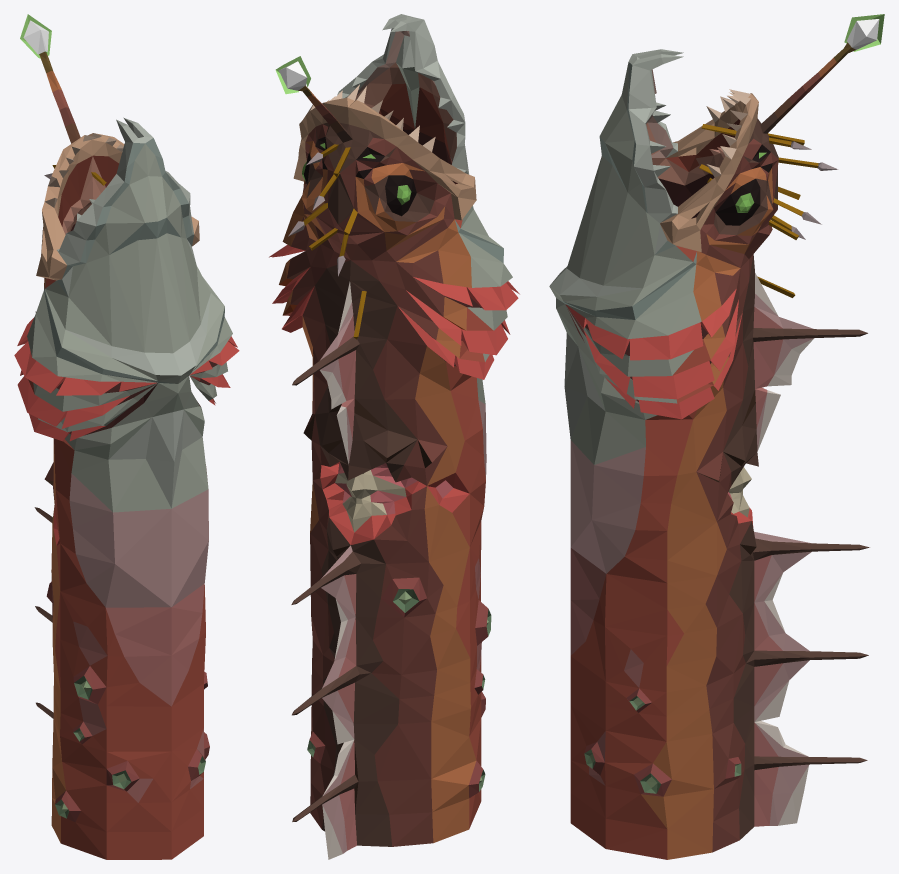
Rendered from the-leviathan.gltf.
3 renders of one model, left to right at view 1: azimuth 30°, elevation 25°; view 2: azimuth 150°, elevation 25°; view 3: azimuth 270°, elevation 25°, orthographic. The views are drawn at different scales.
Bounding box in the file's own units: 334 × 1171 × 440.
1 material, 1 textured.
